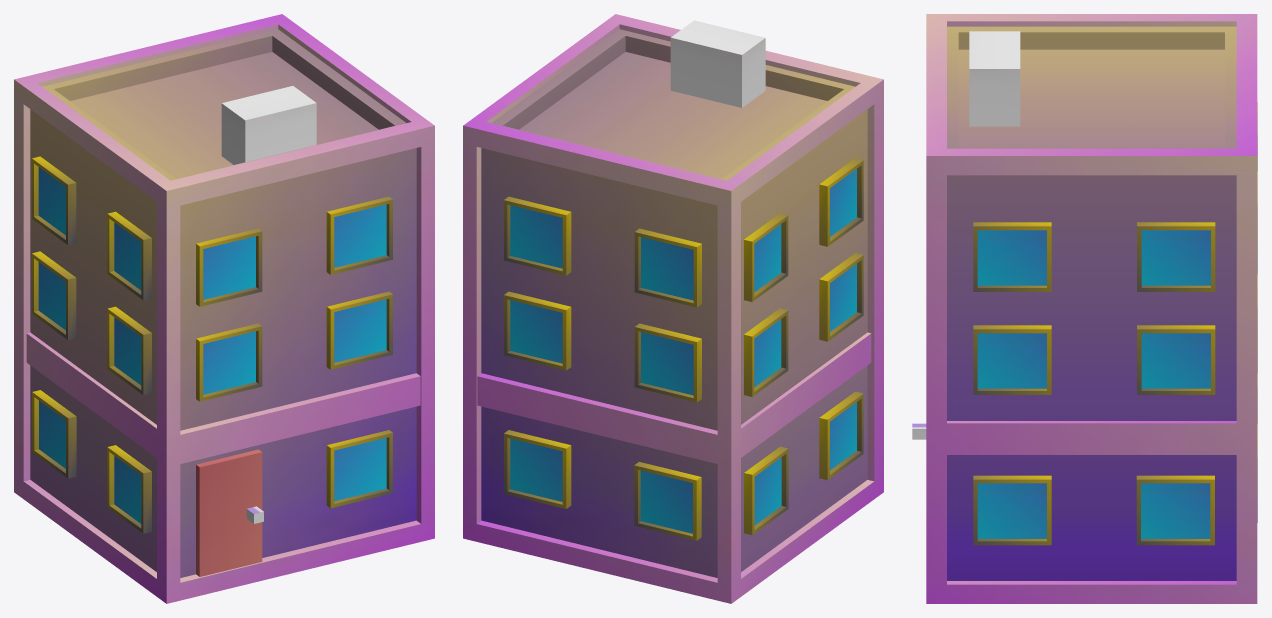
The model's file is House_15.fbx.
3 views of the same model, side by side, from view 1: azimuth 30°, elevation 25°; view 2: azimuth 150°, elevation 25°; view 3: azimuth 270°, elevation 25° (orthographic). The views are drawn at different scales.
Parts seen in each view (by area): view 1: House.15; view 2: House.15; view 3: House.15.
Part boxes in pixels (bbox=[...]): House.15: bbox=[14, 14, 434, 603]; House.15: bbox=[463, 14, 883, 603]; House.15: bbox=[912, 14, 1257, 603].
Bounding box in the file's own units: 792 × 1244 × 806.
1 material, 1 textured.
